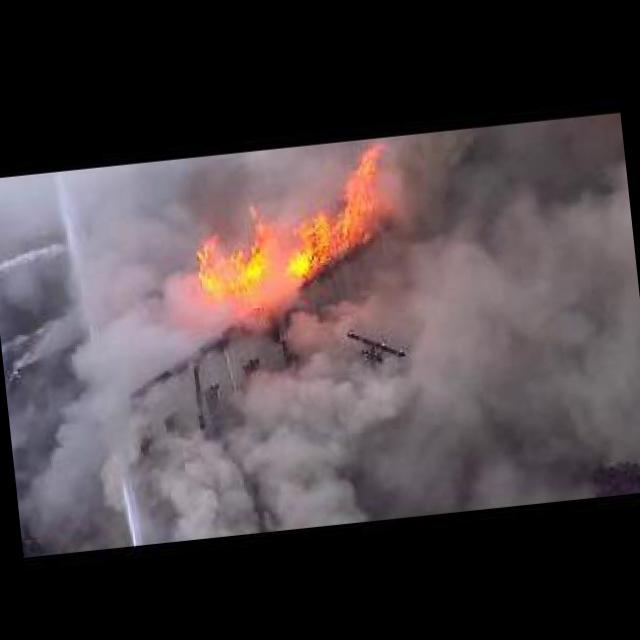fire: (178, 140, 404, 292)
smoke: (19, 257, 544, 553)
